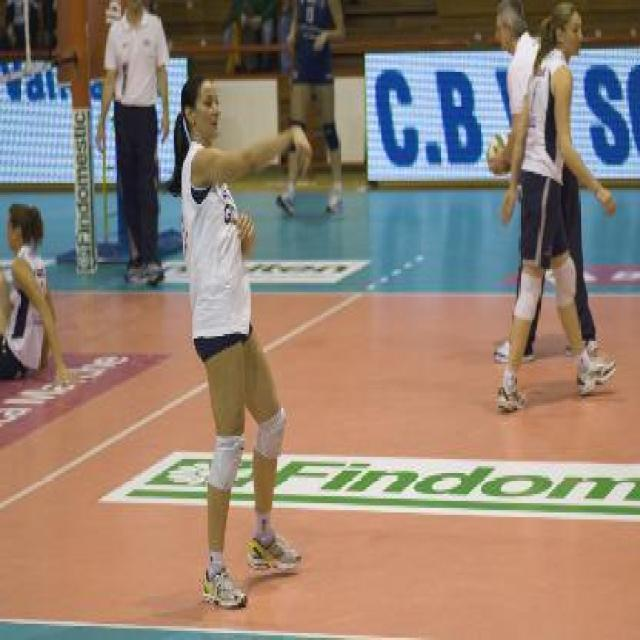volleyball: (486, 134, 510, 160)
